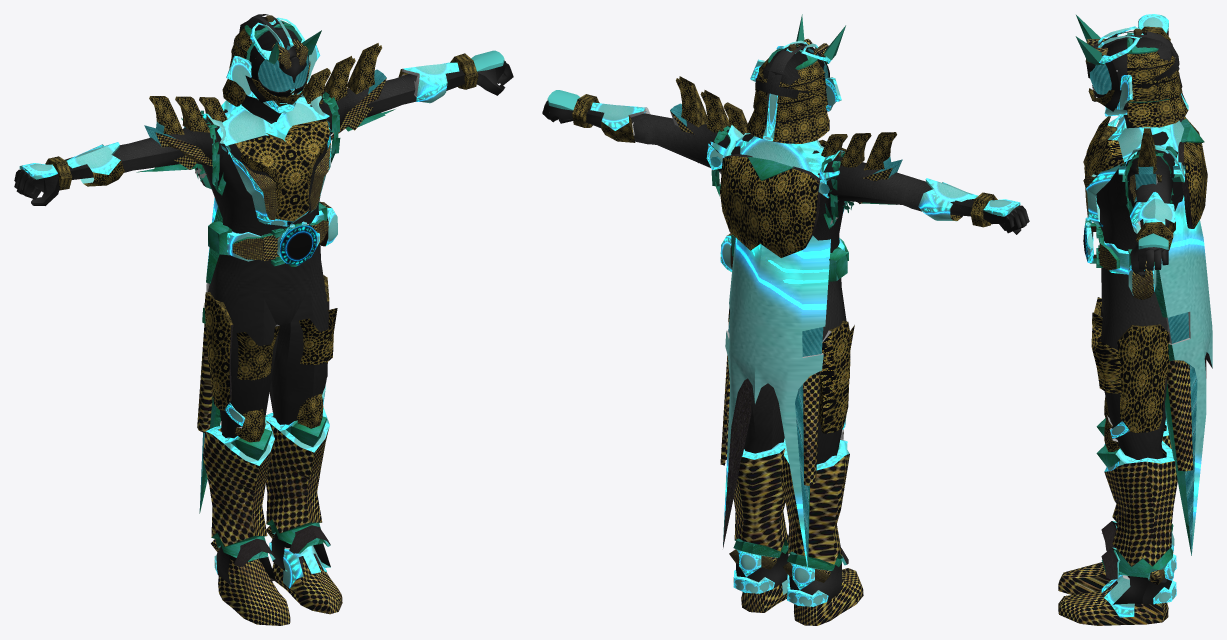
Rendered from rider_25.glb.
3 views of the same model, side by side, from view 1: azimuth 30°, elevation 25°; view 2: azimuth 150°, elevation 25°; view 3: azimuth 270°, elevation 25° (orthographic). The views are drawn at different scales.
Parts seen in each view (by area): view 1: Object_33, Object_32, Object_35, Object_30, Object_34, Object_36, Object_31, Object_37; view 2: Object_30, Object_35, Object_33, Object_32, Object_34, Object_31, Object_36; view 3: Object_30, Object_35, Object_32, Object_33, Object_34, Object_36, Object_31, Object_6, Object_14.
Boxes of the visible parts, box(x1,y1,x2,y2) form: Object_33: box(14, 14, 513, 584); Object_32: box(155, 15, 386, 625); Object_35: box(45, 28, 478, 442); Object_30: box(19, 17, 459, 588); Object_34: box(136, 20, 395, 561); Object_36: box(144, 45, 386, 510); Object_31: box(196, 167, 330, 584); Object_37: box(275, 218, 317, 265); Object_30: box(590, 40, 1020, 606); Object_35: box(572, 58, 997, 433); Object_33: box(542, 43, 1029, 601); Object_32: box(670, 39, 892, 625); Object_34: box(711, 48, 896, 570); Object_31: box(723, 154, 848, 564); Object_36: box(670, 48, 902, 568); Object_30: box(1085, 14, 1212, 617); Object_35: box(1084, 26, 1207, 451); Object_32: box(1058, 28, 1193, 625); Object_33: box(1086, 21, 1185, 604); Object_34: box(1076, 15, 1204, 577); Object_36: box(1089, 64, 1197, 554); Object_31: box(1101, 117, 1212, 596); Object_6: box(1075, 15, 1103, 65); Object_14: box(1138, 233, 1168, 249).
Size of the model in its own units: 18.89 by 21.36 by 5.18.
36 materials, 19 textured.
